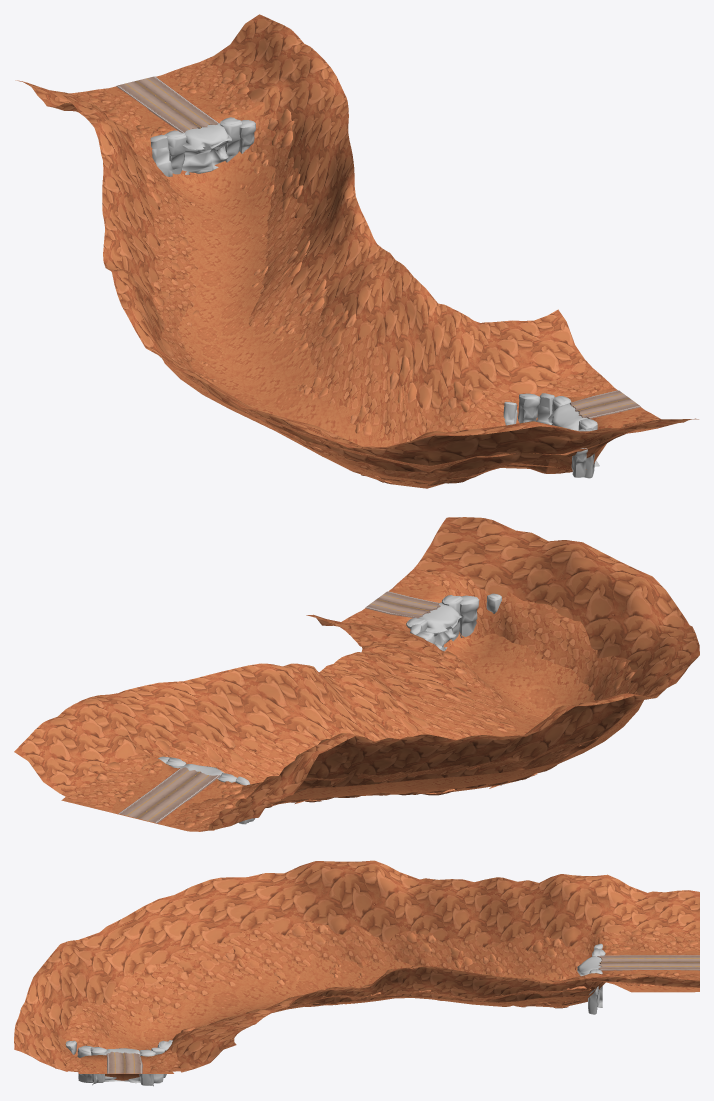
File: Desert_Zipline.FBX
The picture shows the model from 3 angles, top to bottom: view 1: azimuth 30°, elevation 25°; view 2: azimuth 150°, elevation 25°; view 3: azimuth 270°, elevation 25°; orthographic projection. The views are drawn at different scales.
Parts seen in each view (by area): view 1: Desert_Zipline, Desert_Zipline_Rock, Desert_Zipline_Road; view 2: Desert_Zipline, Desert_Zipline_Road, Desert_Zipline_Rock; view 3: Desert_Zipline, Desert_Zipline_Rock, Desert_Zipline_Road.
Part boxes in pixels (box(x1,y1,x2,y2)): Desert_Zipline: box(15, 14, 698, 488); Desert_Zipline_Rock: box(150, 117, 599, 478); Desert_Zipline_Road: box(116, 76, 640, 418); Desert_Zipline: box(14, 517, 699, 831); Desert_Zipline_Road: box(118, 591, 440, 823); Desert_Zipline_Rock: box(158, 593, 501, 824); Desert_Zipline: box(14, 860, 699, 1080); Desert_Zipline_Rock: box(65, 943, 605, 1086); Desert_Zipline_Road: box(106, 955, 699, 1073).
Size of the model in its own units: 75.23 by 35.47 by 149.
